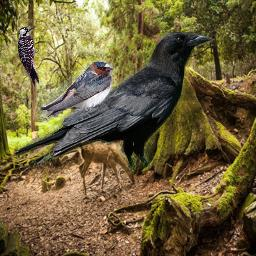Crow: (12, 32, 213, 173)
Swallow: (41, 61, 113, 118)
Woodpecker: (18, 26, 39, 86)
